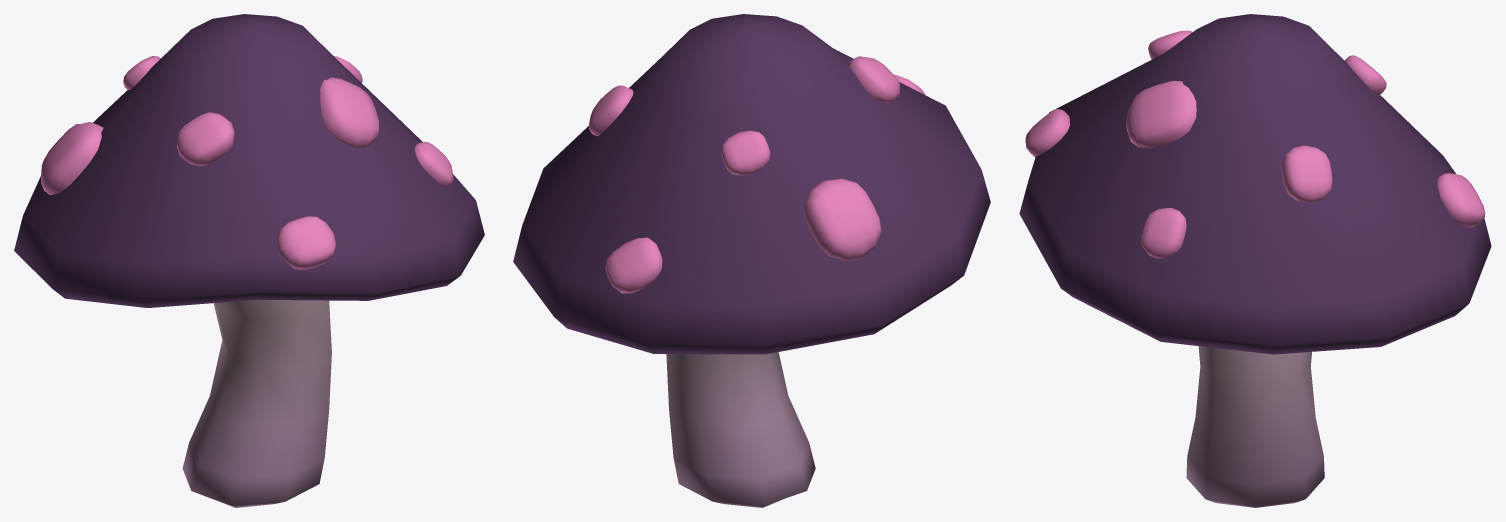
Rendered from MushroomLampPost.fbx.
3 renders of one model, left to right at view 1: azimuth 30°, elevation 25°; view 2: azimuth 150°, elevation 25°; view 3: azimuth 270°, elevation 25°, orthographic.
Visible parts, largest first — view 1: Cube.011; view 2: Cube.011; view 3: Cube.011.
Part boxes in pixels (left/top/right/bottom): Cube.011: left=14, top=14, right=484, bottom=507; Cube.011: left=513, top=14, right=990, bottom=507; Cube.011: left=1019, top=14, right=1491, bottom=507.
Bounding box in the file's own units: 597 × 646 × 595.
